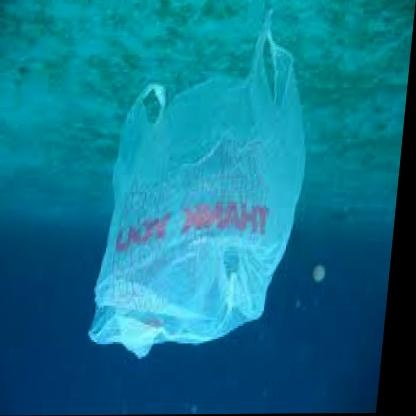trash: (89, 10, 304, 356)
